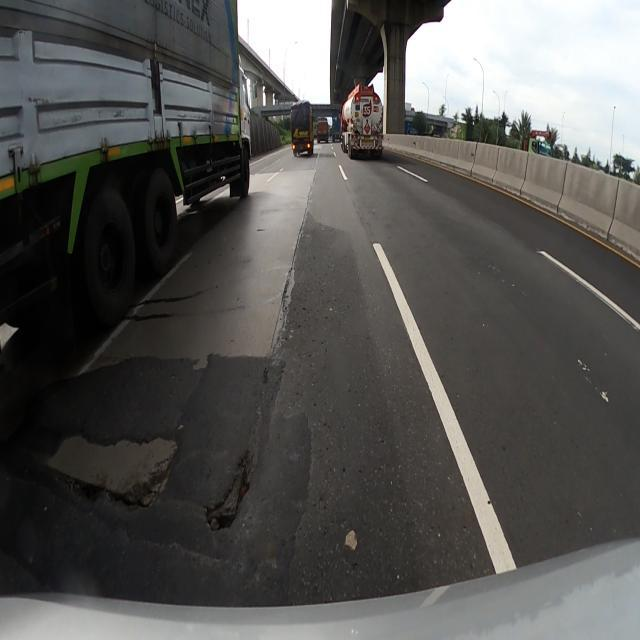Buraco: (40, 429, 185, 516), (197, 447, 255, 536)
